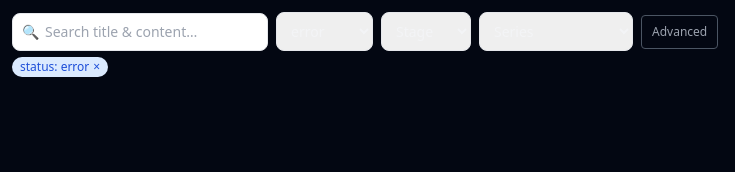
SearchBar › pill dismiss button removes the filter
What coordinates should you click on to do the following:
click the button "×"
I would click on:
 (97, 67)
Its box is [93,61,100,73].
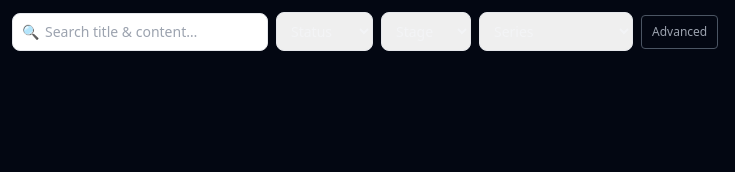
Check: the text "status: error" is gone
